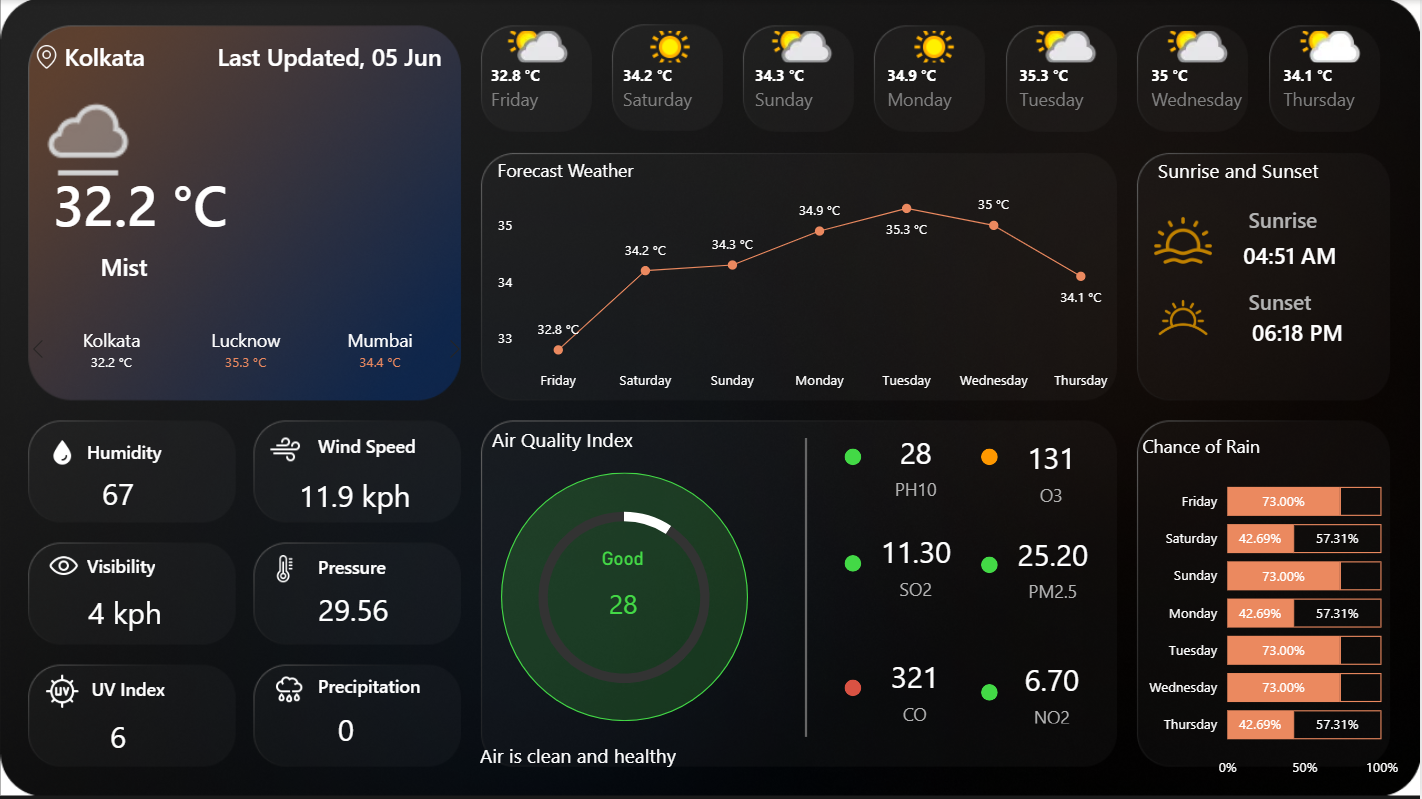

What the dashboard file says about the page in this screenshot:
{"tool":"powerbi","page":{"name":"Page 1","canvas":[1280,720],"ordinal":0},"visuals":[{"type":"card","fields":{"Values":["Sum(Current.current.air_quality.pm10)"]},"box":[496.7,493.6,130.2,83.3],"z":0},{"type":"shape","box":[451.2,425.5,222.6,224.1],"z":1000},{"type":"donutChart","fields":{"Y":["Sum(Current.current.air_quality.pm10)","_Measures.Left_value_PM10"]},"box":[439.1,436.1,245.3,202.9],"z":2000},{"type":"advancedSlicerVisual","fields":{"Values":["Locations.location.name"]},"box":[18.9,272.1,406.3,86.9],"z":3000},{"type":"cardVisual","fields":{"Data":["_Measures.Curr_Temp_C"]},"box":[18.3,118.3,298.3,106.7],"z":4000},{"type":"shape","box":[28.3,165,166.7,150],"z":5000},{"type":"shape","box":[57.5,0,165,100],"z":6000},{"type":"shape","box":[153.8,0,243.8,100],"z":7000},{"type":"image","box":[27.5,40,30,21.2],"z":8000},{"type":"image","box":[28.3,50,101.7,136.7],"z":9000},{"type":"image","box":[241.1,606.7,40,28.9],"z":10000},{"type":"image","box":[238.9,500,34.4,24.4],"z":11000},{"type":"image","box":[241.1,390,32.2,28.9],"z":12000},{"type":"image","box":[31.7,606.7,50,31.7],"z":13000},{"type":"image","box":[26.7,494.4,61.1,30],"z":14000},{"type":"image","box":[36.7,395.6,38.9,23.3],"z":15000},{"type":"shape","box":[286.7,390,110,28.9],"z":16000},{"type":"shape","box":[78.9,498.9,76.7,25.6],"z":17000},{"type":"shape","box":[286.7,606.7,103.3,24.4],"z":18000},{"type":"shape","box":[82.2,610,76.7,25.6],"z":19000},{"type":"shape","box":[286.7,500,66.7,23.3],"z":20000},{"type":"shape","box":[78.9,395.6,74.4,24.4],"z":21000},{"type":"card","fields":{"Values":["Sum(Current.current.humidity)"]},"box":[71.4,418.6,68.6,52.9],"z":22000},{"type":"card","fields":{"Values":["_Measures.Wind_Speed"]},"box":[256.7,420,125,53.3],"z":23000},{"type":"card","fields":{"Values":["Sum(Current.current.pressure_in)"]},"box":[276.7,525,81.7,51.7],"z":24000},{"type":"card","fields":{"Values":["Sum(Current.current.precip_in)"]},"box":[276.7,631.7,68.3,53.3],"z":25000},{"type":"card","fields":{"Values":["Sum(Current.current.uv)"]},"box":[71.4,638.6,68.6,52.9],"z":26000},{"type":"card","fields":{"Values":["_Measures.Visibility"]},"box":[71.4,525.7,81.4,52.9],"z":27000},{"type":"lineChart","title":"Forecast Weather","fields":{"Y":["Sum(Forcast_Day.forecast.forecastday.day.avgtemp_c)"],"Category":["Forcast_Day.Day_Name"]},"box":[443.3,141.7,566.7,218.3],"z":28000},{"type":"advancedSlicerVisual","fields":{"Values":["Forcast_Day.Day_Name"]},"box":[425,21.7,841.7,96.7],"z":29000},{"type":"shape","box":[1043.3,141.7,223.3,45],"z":30000},{"type":"shape","box":[1105,190,100,70],"z":31000},{"type":"shape","box":[1115,260,95,70],"z":32000},{"type":"shape","box":[1115,185,80,40],"z":33000},{"type":"shape","box":[1115,260,80,30],"z":34000},{"type":"image","box":[1036.7,256.7,58.3,58.3],"z":35000},{"type":"image","box":[1036.7,190,58.3,51.7],"z":36000},{"type":"hundredPercentStackedBarChart","title":"Chance of Rain","fields":{"Y":["Sum(Current.current.chance_of_rain)","Current.Left_value_Rain"],"Category":["Forcast_Day.Day_Name"]},"box":[1025,390,240,318.3],"z":37000},{"type":"shape","box":[443.3,383.3,223.3,45],"z":38000},{"type":"card","fields":{"Values":["Sum(Current.current.air_quality.pm10)"]},"box":[760.1,377,130.2,83.3],"z":39000},{"type":"card","fields":{"Values":["Sum(Current.current.air_quality.so2)"]},"box":[776.8,467.9,95.4,81.8],"z":40000},{"type":"card","fields":{"Values":["Sum(Current.current.air_quality.o3)"]},"box":[884.3,386.1,125.7,74.2],"z":41000},{"type":"card","fields":{"Values":["Sum(Current.current.air_quality.pm2_5)"]},"box":[890.4,472.4,115.1,75.7],"z":42000},{"type":"card","fields":{"Values":["Sum(Current.current.air_quality.no2)"]},"box":[885.8,590.5,124.2,66.6],"z":43000},{"type":"card","fields":{"Values":["Sum(Current.current.air_quality.co)"]},"box":[761.6,581.5,125.7,80.3],"z":44000},{"type":"shape","box":[761.6,404.3,15.1,15.1],"z":45000},{"type":"shape","box":[761.6,611.7,15.1,15.1],"z":46000},{"type":"shape","box":[761.6,499.7,15.1,15.1],"z":47000},{"type":"shape","box":[884.3,404.3,15.1,15.1],"z":48000},{"type":"shape","box":[884.3,501.2,15.1,15.1],"z":49000},{"type":"shape","box":[884.3,616.3,15.1,15.1],"z":50000},{"type":"shape","box":[614.8,395.2,222.6,269.5],"z":51000},{"type":"shape","box":[433.1,669.3,452.7,43.9],"z":52000}]}

Visuals, with their boxes in screenshot pixels (x1, y1, x2, y2), scaled from the page's 1280x720 canvas onto the 1422x799 screenshot:
card - Sum(Current.current.air_quality.pm10): 552:548:696:640
shape: 501:472:749:721
donutChart - Sum(Current.current.air_quality.pm10) x _Measures.Left_value_PM10: 488:484:760:709
advancedSlicerVisual - Locations.location.name: 21:302:472:398
cardVisual - _Measures.Curr_Temp_C: 20:131:352:250
shape: 31:183:217:350
shape: 64:0:247:111
shape: 171:0:442:111
image: 31:44:64:68
image: 31:55:144:207
image: 268:673:312:705
image: 265:555:304:582
image: 268:433:304:465
image: 35:673:91:708
image: 30:549:98:582
image: 41:439:84:465
shape: 319:433:441:465
shape: 88:554:173:582
shape: 319:673:433:700
shape: 91:677:177:705
shape: 319:555:393:581
shape: 88:439:170:466
card - Sum(Current.current.humidity): 79:465:156:523
card - _Measures.Wind_Speed: 285:466:424:525
card - Sum(Current.current.pressure_in): 307:583:398:640
card - Sum(Current.current.precip_in): 307:701:383:760
card - Sum(Current.current.uv): 79:709:156:767
card - _Measures.Visibility: 79:583:170:642
"Forecast Weather" lineChart: 492:157:1122:400
advancedSlicerVisual - Forcast_Day.Day_Name: 472:24:1407:131
shape: 1159:157:1407:207
shape: 1228:211:1339:289
shape: 1239:289:1344:366
shape: 1239:205:1328:250
shape: 1239:289:1328:322
image: 1152:285:1216:350
image: 1152:211:1216:268
"Chance of Rain" hundredPercentStackedBarChart: 1139:433:1405:786
shape: 492:425:741:475
card - Sum(Current.current.air_quality.pm10): 844:418:989:511
card - Sum(Current.current.air_quality.so2): 863:519:969:610
card - Sum(Current.current.air_quality.o3): 982:428:1122:511
card - Sum(Current.current.air_quality.pm2_5): 989:524:1117:608
card - Sum(Current.current.air_quality.no2): 984:655:1122:729
card - Sum(Current.current.air_quality.co): 846:645:986:734
shape: 846:449:863:465
shape: 846:679:863:696
shape: 846:555:863:571
shape: 982:449:999:465
shape: 982:556:999:573
shape: 982:684:999:701
shape: 683:439:930:738
shape: 481:743:984:791
